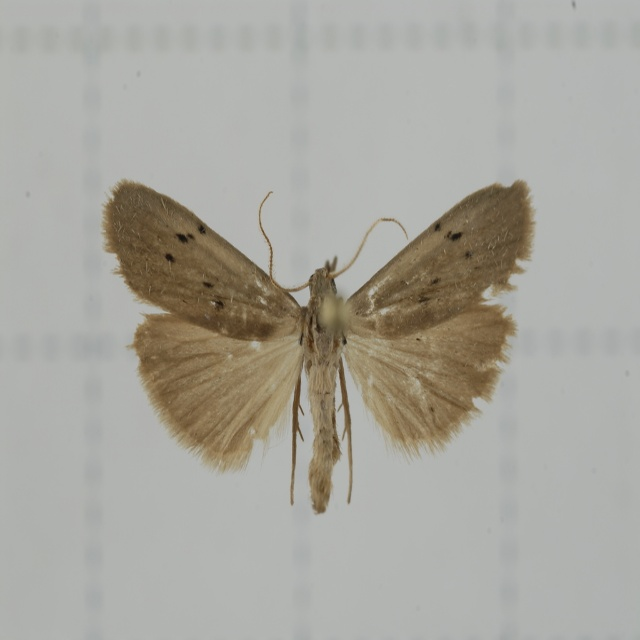Butterfly: (86, 178, 546, 515)
